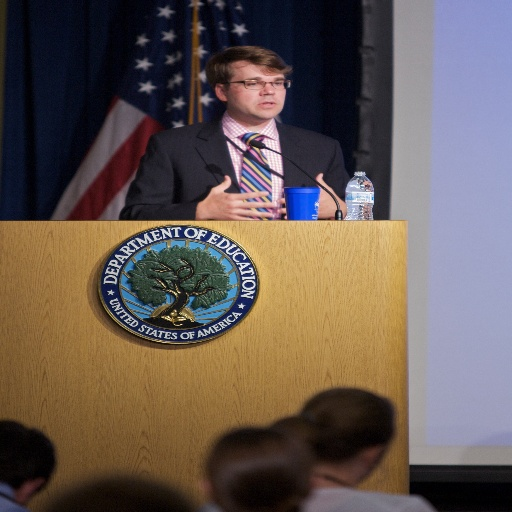hand: (273, 171, 350, 220), (186, 176, 274, 209)
